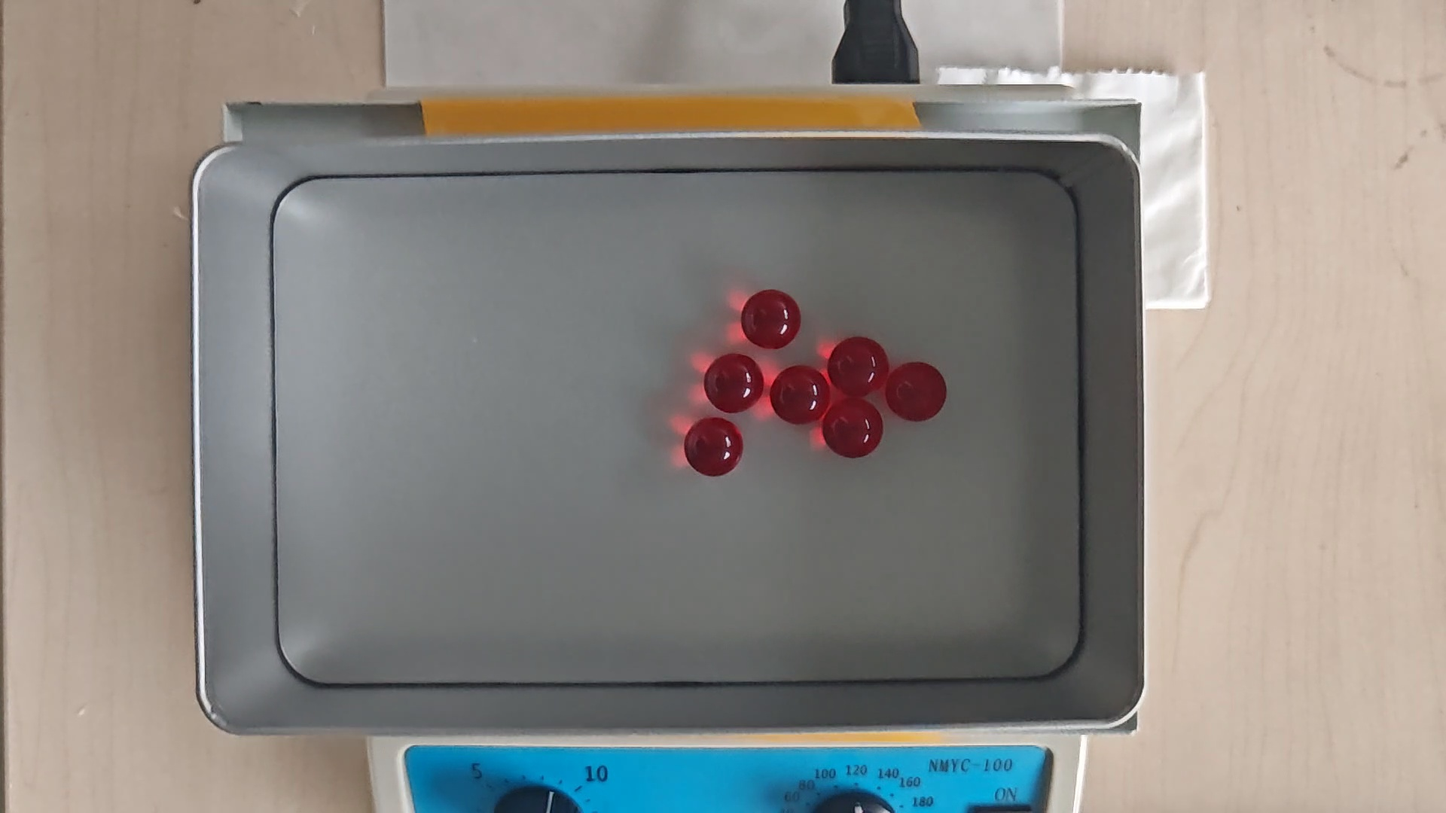ball: (830, 336, 889, 398), (704, 354, 762, 416), (771, 362, 828, 425), (823, 400, 883, 459), (743, 290, 801, 349), (886, 362, 944, 421), (685, 416, 742, 476)
container: (274, 170, 1081, 684)
